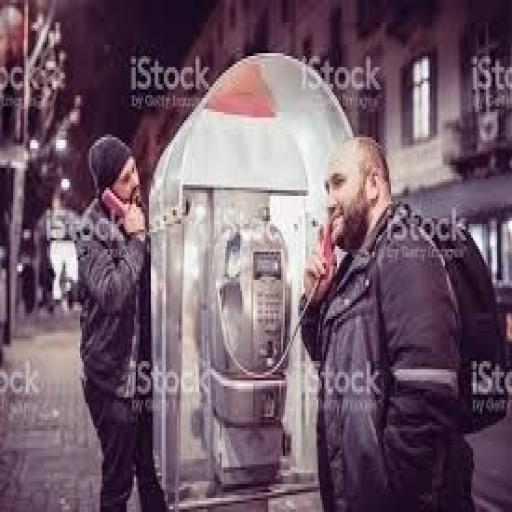calling: (298, 132, 473, 509), (72, 132, 170, 509)
